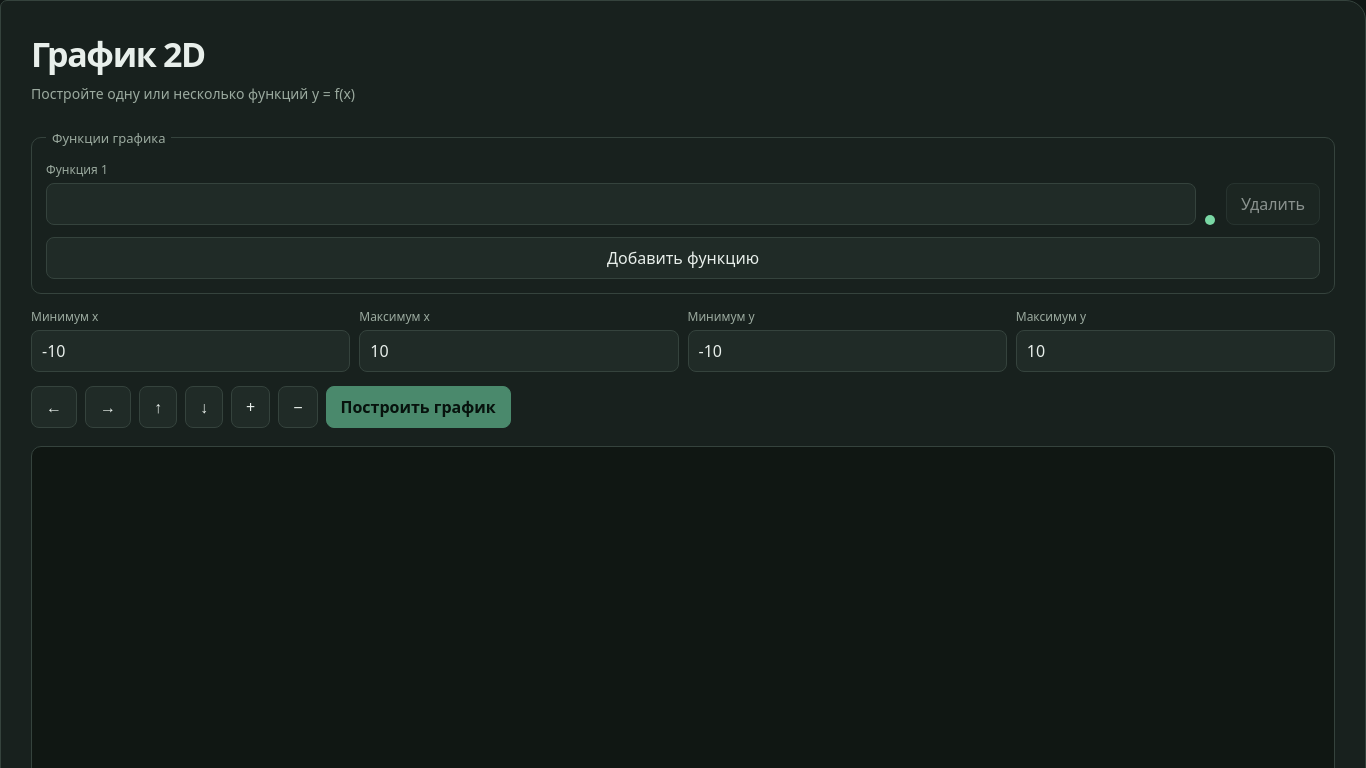
Test: Graph2DView › shows a clear error for an empty expression
Click the button "Построить график" at [418, 407], box [326,386,511,428]
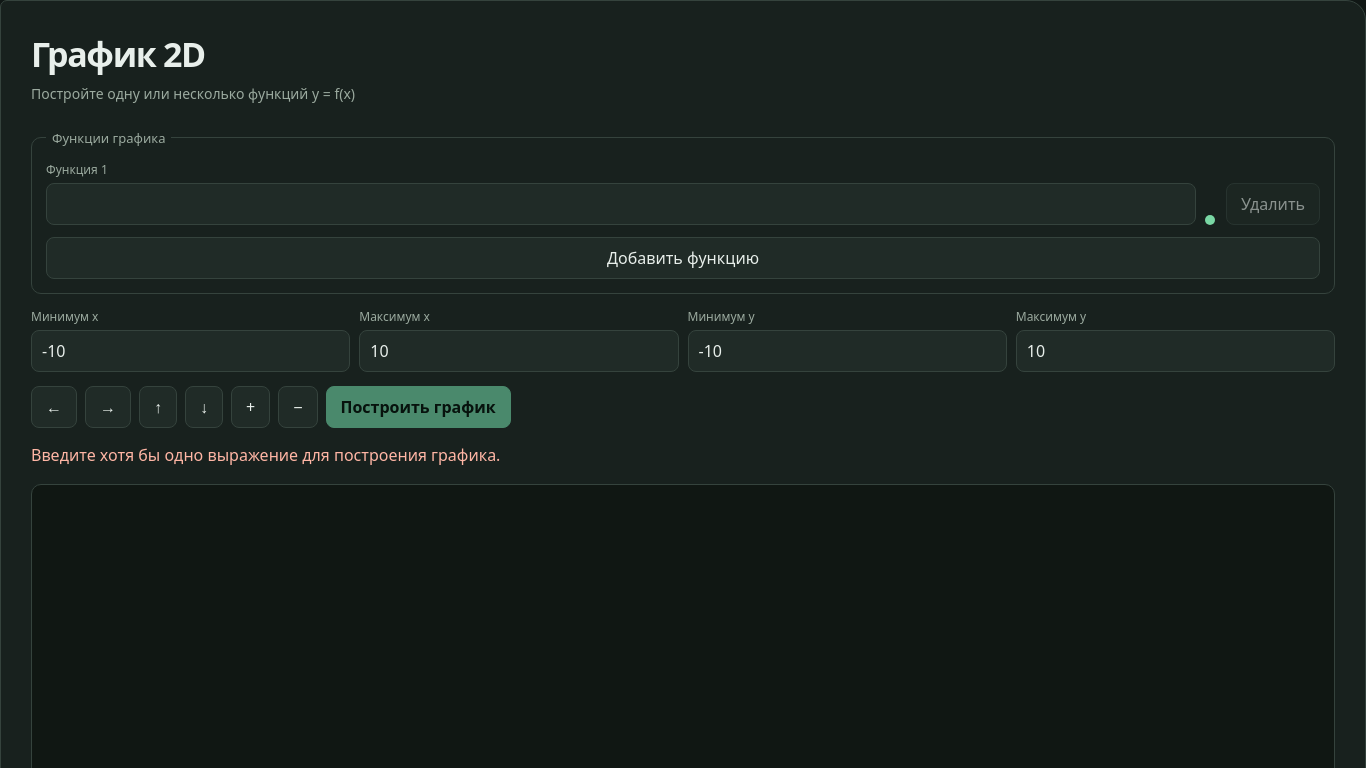
Now the message shows "выражение", box [31,444,500,466]
